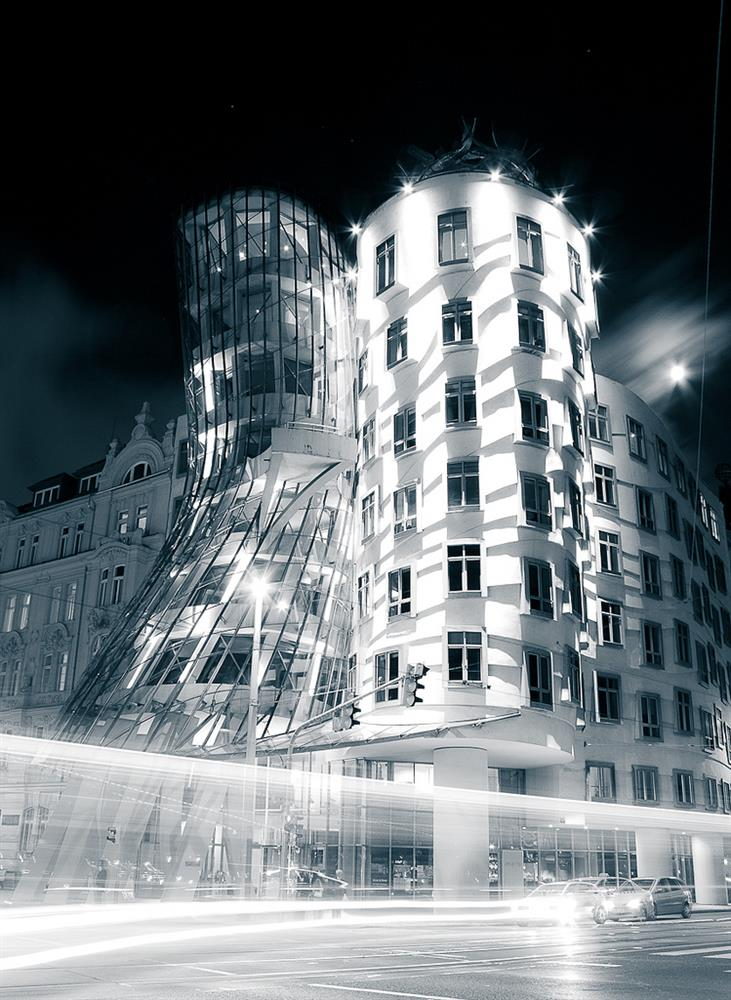dancing_house: (52, 146, 600, 920)
